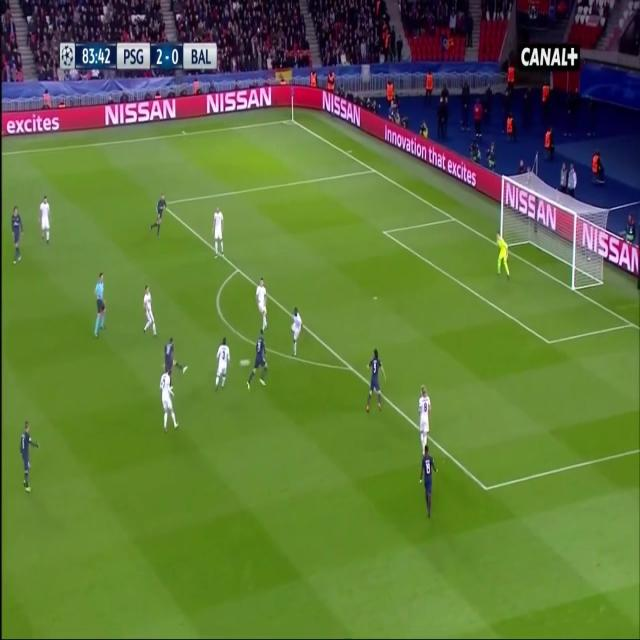Ball: (238, 354, 252, 372)
Goalkeeper: (494, 229, 511, 280)
Player: (362, 345, 388, 416), (19, 418, 41, 494), (419, 444, 439, 522), (159, 368, 180, 434), (246, 331, 269, 388), (208, 204, 228, 262), (212, 335, 232, 391), (419, 381, 433, 455), (162, 337, 188, 376), (255, 274, 271, 334), (141, 281, 157, 340), (36, 192, 52, 250), (11, 202, 25, 267), (150, 192, 168, 238), (290, 304, 304, 361)
Referee: (92, 270, 108, 344)
